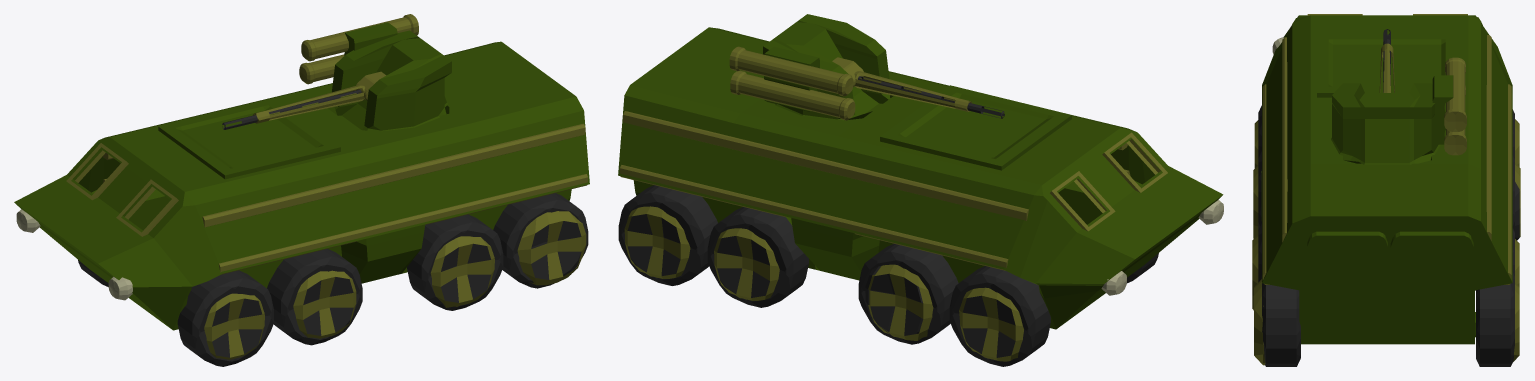
File: BTR4(med poly).fbx
3 views of the same model, side by side, from view 1: azimuth 30°, elevation 25°; view 2: azimuth 150°, elevation 25°; view 3: azimuth 270°, elevation 25° (orthographic). The views are drawn at different scales.
Visible parts, largest first — view 1: Main, Cube.005, Cube.017, Cube.032, MainTurret, Cube.025, Cube.026, Cube.022, Cube.004, Cube.028, Cube.038, Cube.003; view 2: Main, Cube.005, Cube.017, Cube.032, Cube.025, Cube.026, MainTurret, Cube.022, Cube.004, Cube.028, Cube.038, Cube.003; view 3: Main, Cube.023, Cube.005, MainTurret, Cube.025, Cube.032, Cube.017, Cube.026, Cube.028, Cube.004.
Boxes of the visible parts, bbox=[...] form: Main: bbox=[14, 41, 589, 330]; Cube.005: bbox=[78, 193, 588, 366]; Cube.017: bbox=[204, 211, 586, 359]; Cube.032: bbox=[102, 123, 587, 274]; MainTurret: bbox=[332, 30, 451, 131]; Cube.025: bbox=[158, 98, 340, 179]; Cube.026: bbox=[299, 14, 418, 84]; Cube.022: bbox=[66, 143, 178, 236]; Cube.004: bbox=[253, 85, 364, 123]; Cube.028: bbox=[344, 22, 397, 55]; Cube.038: bbox=[16, 209, 132, 300]; Cube.003: bbox=[222, 89, 361, 129]; Main: bbox=[618, 27, 1223, 329]; Cube.005: bbox=[618, 185, 1158, 366]; Cube.017: bbox=[624, 206, 1023, 361]; Cube.032: bbox=[620, 111, 1130, 270]; Cube.025: bbox=[880, 85, 1071, 170]; Cube.026: bbox=[729, 46, 855, 120]; MainTurret: bbox=[763, 14, 890, 120]; Cube.022: bbox=[1050, 132, 1167, 231]; Cube.004: bbox=[854, 71, 972, 111]; Cube.028: bbox=[764, 46, 819, 111]; Cube.038: bbox=[1101, 200, 1223, 295]; Cube.003: bbox=[858, 76, 1004, 118]; Main: bbox=[1261, 15, 1512, 344]; Cube.023: bbox=[1307, 231, 1473, 327]; Cube.005: bbox=[1258, 105, 1519, 366]; MainTurret: bbox=[1331, 83, 1440, 164]; Cube.025: bbox=[1317, 33, 1457, 97]; Cube.032: bbox=[1262, 35, 1511, 284]; Cube.017: bbox=[1252, 119, 1520, 365]; Cube.026: bbox=[1444, 57, 1466, 155]; Cube.028: bbox=[1432, 75, 1453, 144]; Cube.004: bbox=[1379, 43, 1394, 92].
Size of the model in its own units: 1356 by 574 by 614.
